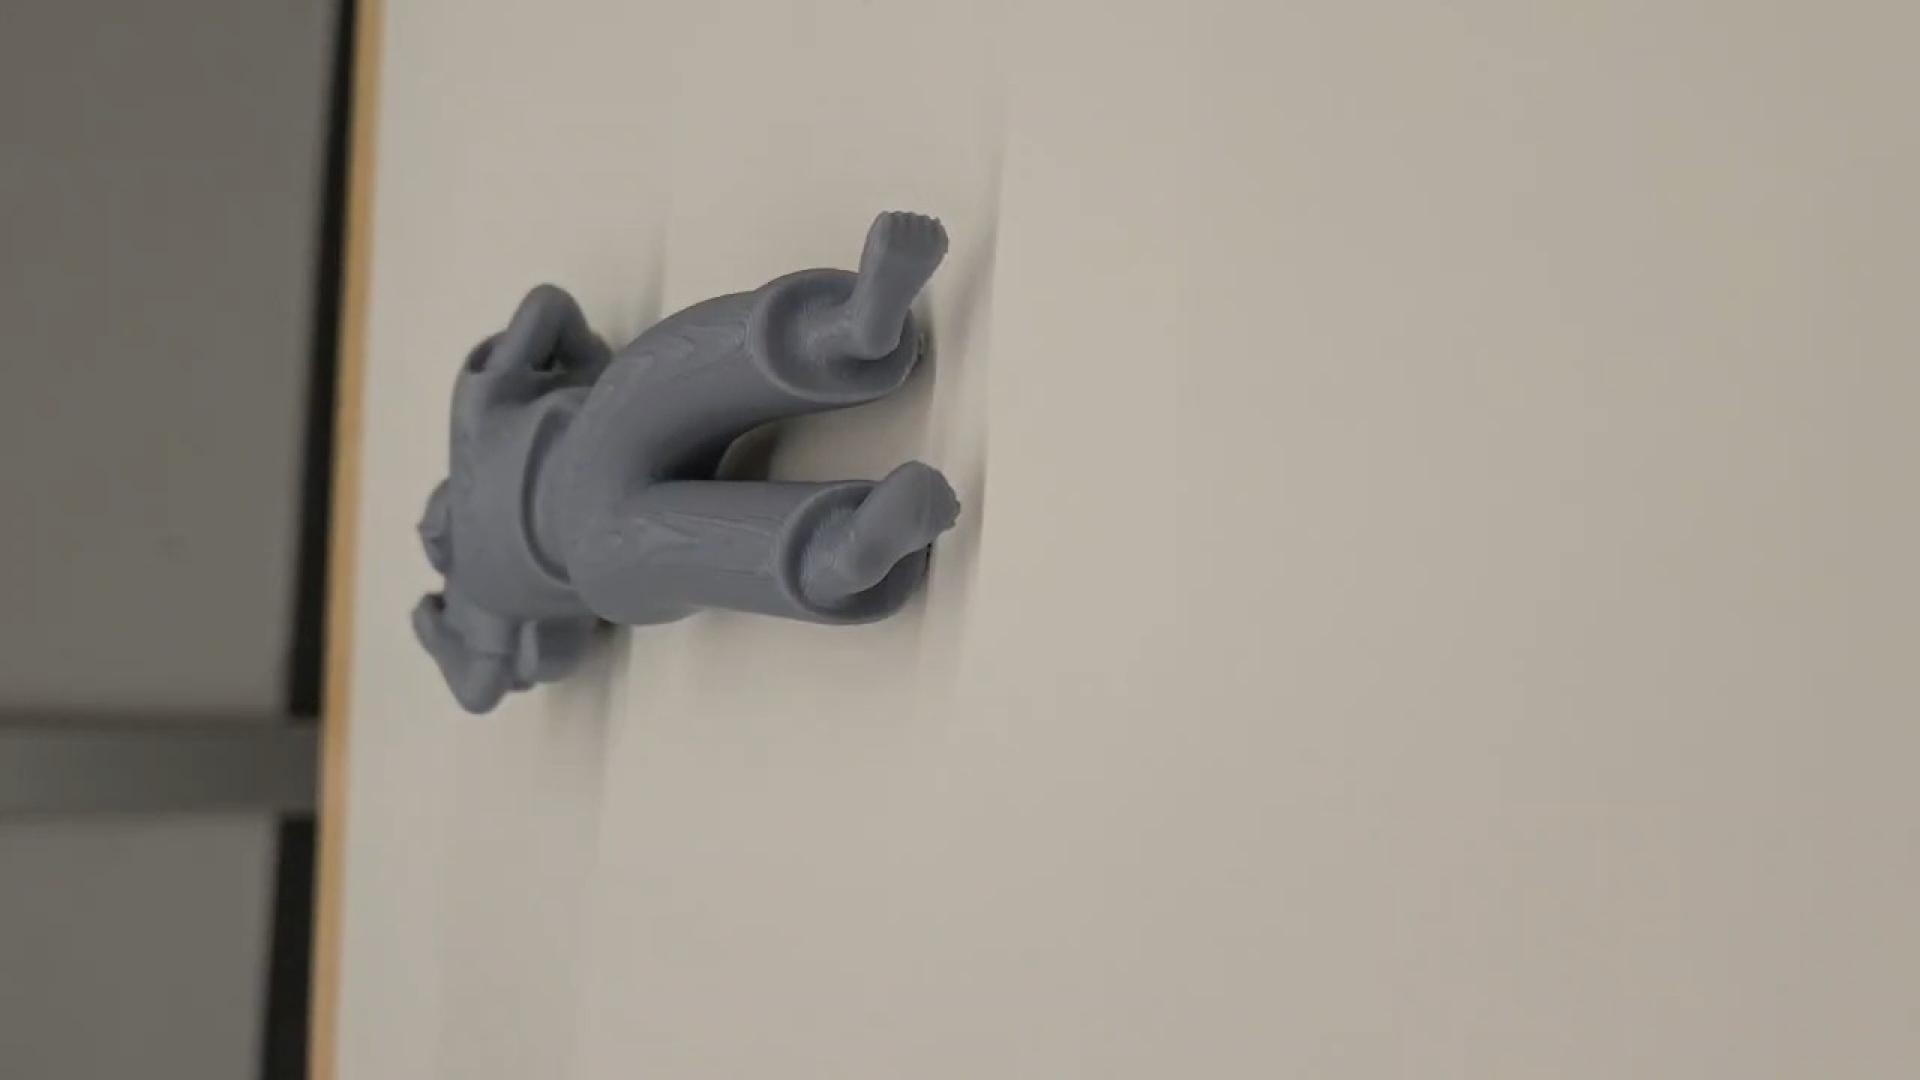Bad-style: (402, 200, 969, 740)
